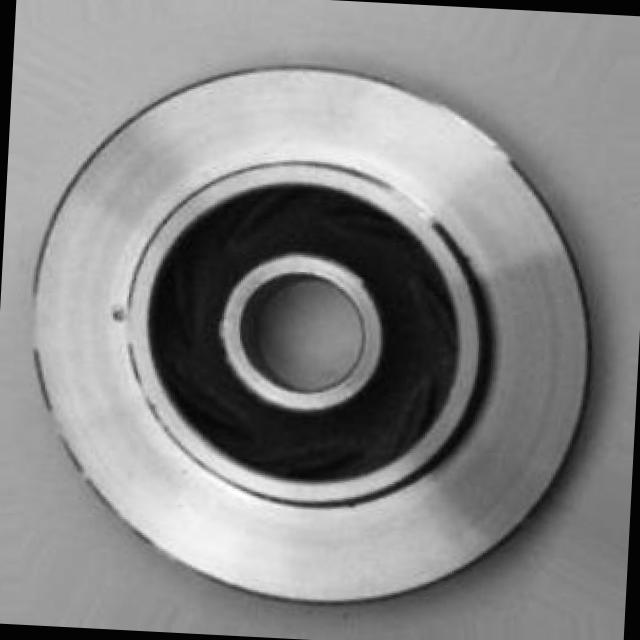Defect: (106, 302, 130, 329)
